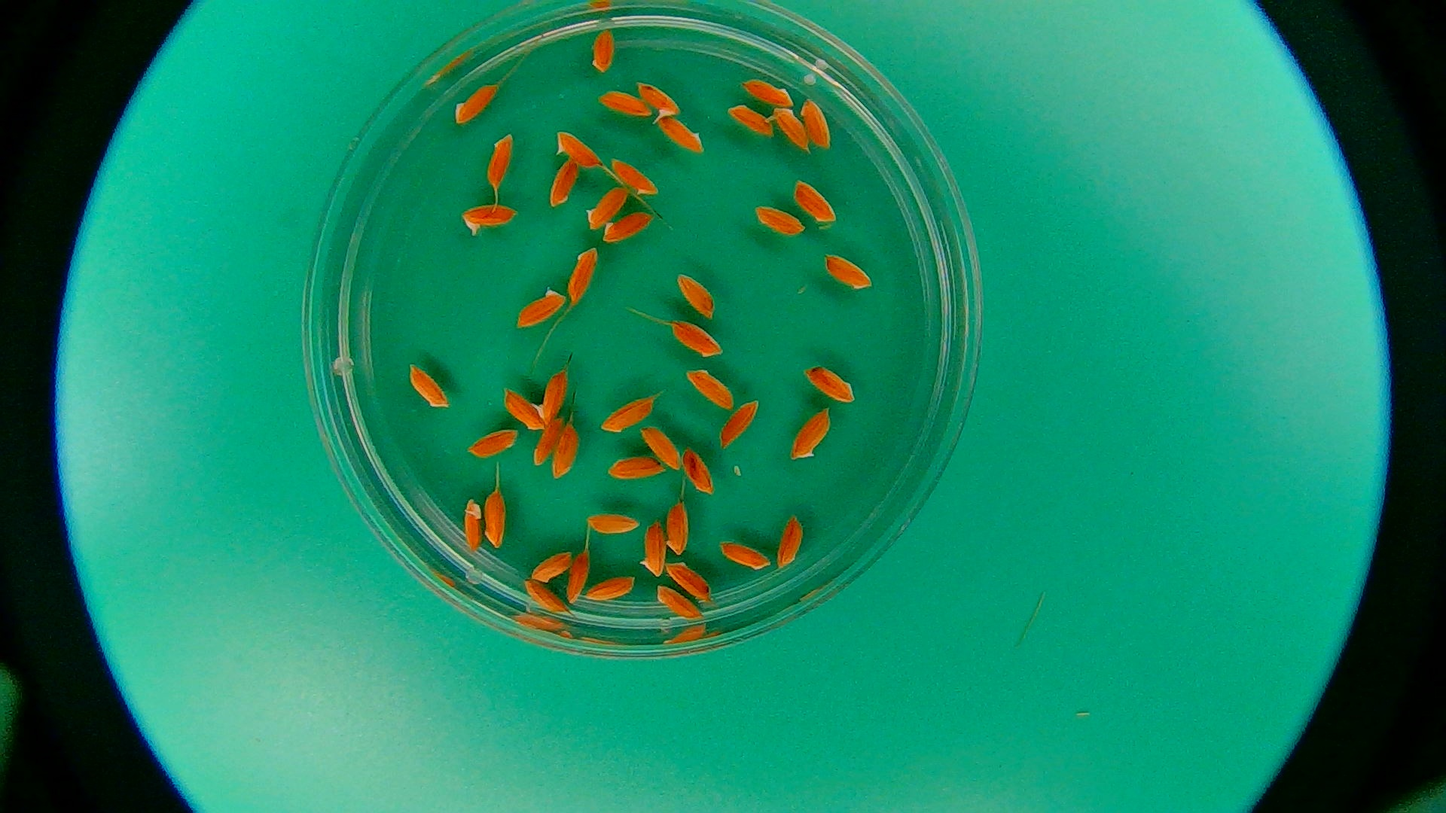no: (669, 317, 727, 361), (681, 364, 732, 410), (405, 358, 450, 410), (821, 251, 874, 295), (598, 393, 654, 434), (672, 270, 717, 321), (805, 361, 856, 406), (584, 184, 630, 233), (609, 154, 658, 199), (790, 406, 830, 461), (718, 399, 760, 451), (517, 288, 568, 330), (717, 536, 770, 576), (791, 178, 837, 224), (452, 83, 501, 126), (752, 201, 807, 239), (499, 388, 546, 432), (654, 112, 703, 154), (679, 446, 717, 500), (552, 127, 602, 168), (664, 562, 714, 603), (458, 205, 520, 238), (653, 581, 702, 622), (639, 425, 683, 470), (765, 107, 810, 151), (776, 515, 808, 575), (598, 212, 656, 245), (568, 247, 599, 308), (595, 87, 651, 120), (582, 574, 636, 607), (523, 577, 571, 614), (725, 102, 775, 137), (484, 133, 513, 193), (740, 76, 794, 108), (605, 455, 669, 482), (548, 154, 579, 209), (801, 95, 831, 151), (552, 422, 578, 486), (533, 419, 565, 470), (664, 498, 691, 557), (563, 551, 593, 604), (482, 488, 507, 551), (530, 550, 574, 585), (638, 522, 665, 578), (467, 428, 519, 456), (584, 513, 642, 536), (462, 498, 484, 554), (590, 27, 615, 72)
yes: (529, 367, 569, 426), (636, 77, 682, 123)
